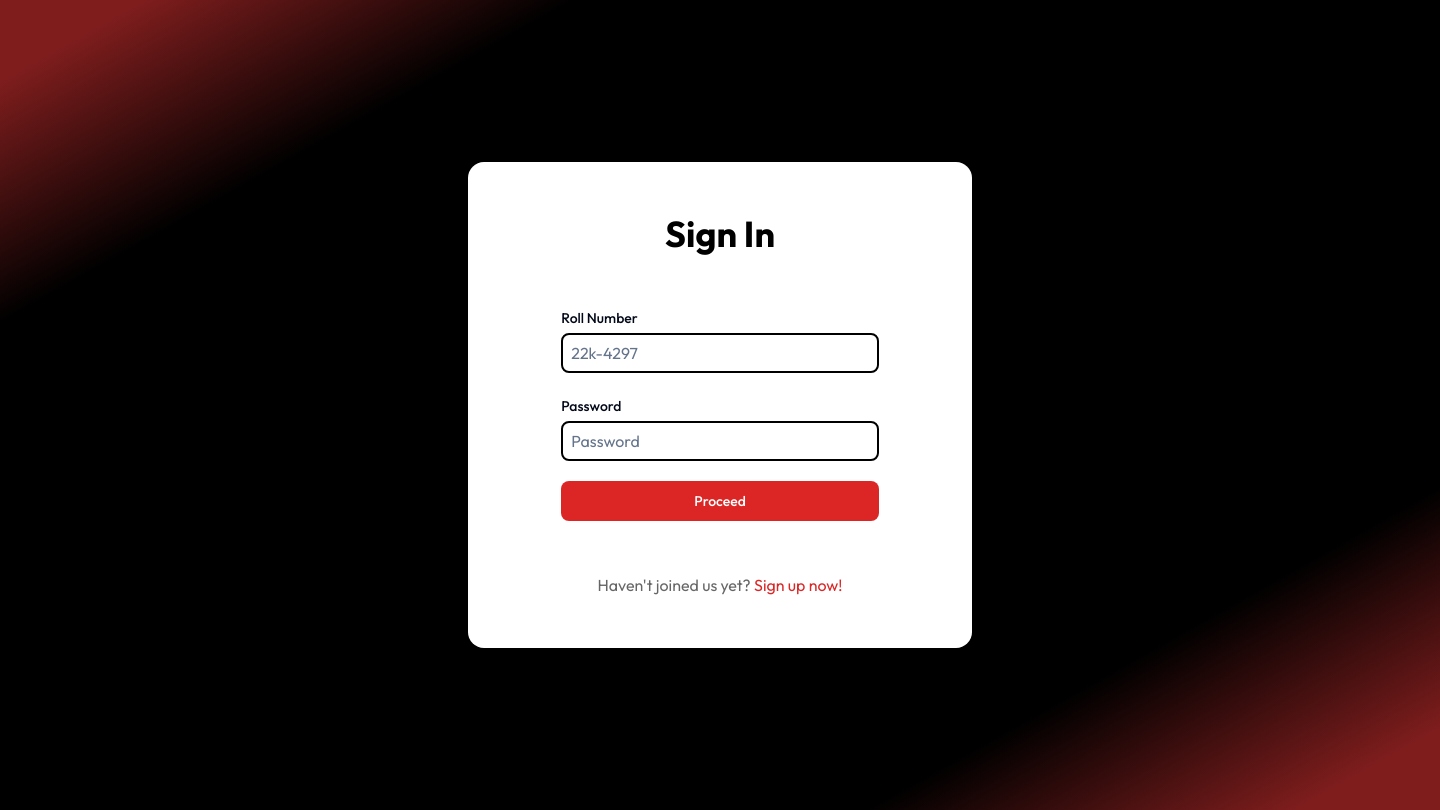
Test: Login Form - Validation Tests › should reject roll number in wrong format (missing k)
In the field labelled "Roll Number": (720, 353) x1=561 y1=333 x2=879 y2=373, type "22-4297"
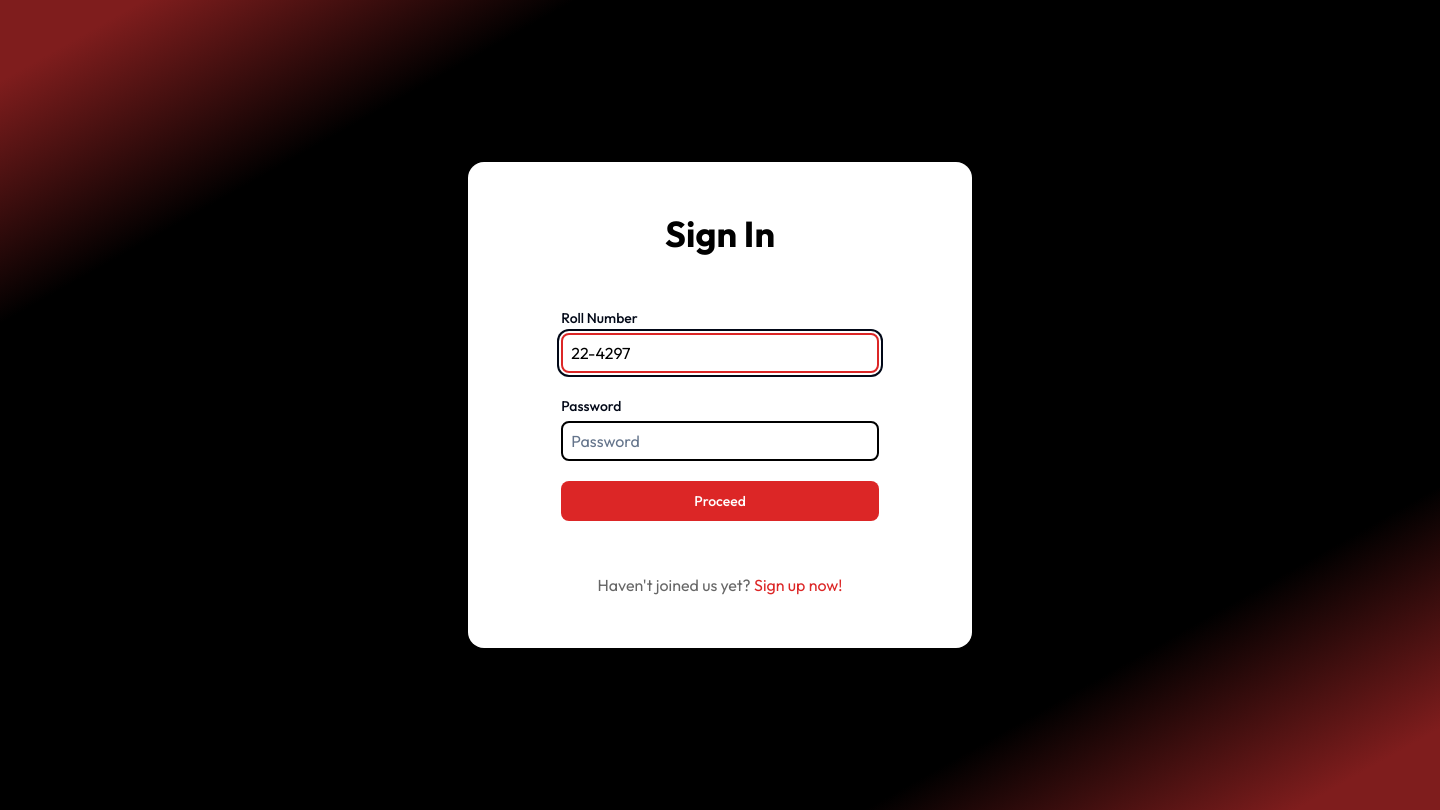
In the password field labelled "Password": (720, 441) x1=561 y1=421 x2=879 y2=461, type "password123"
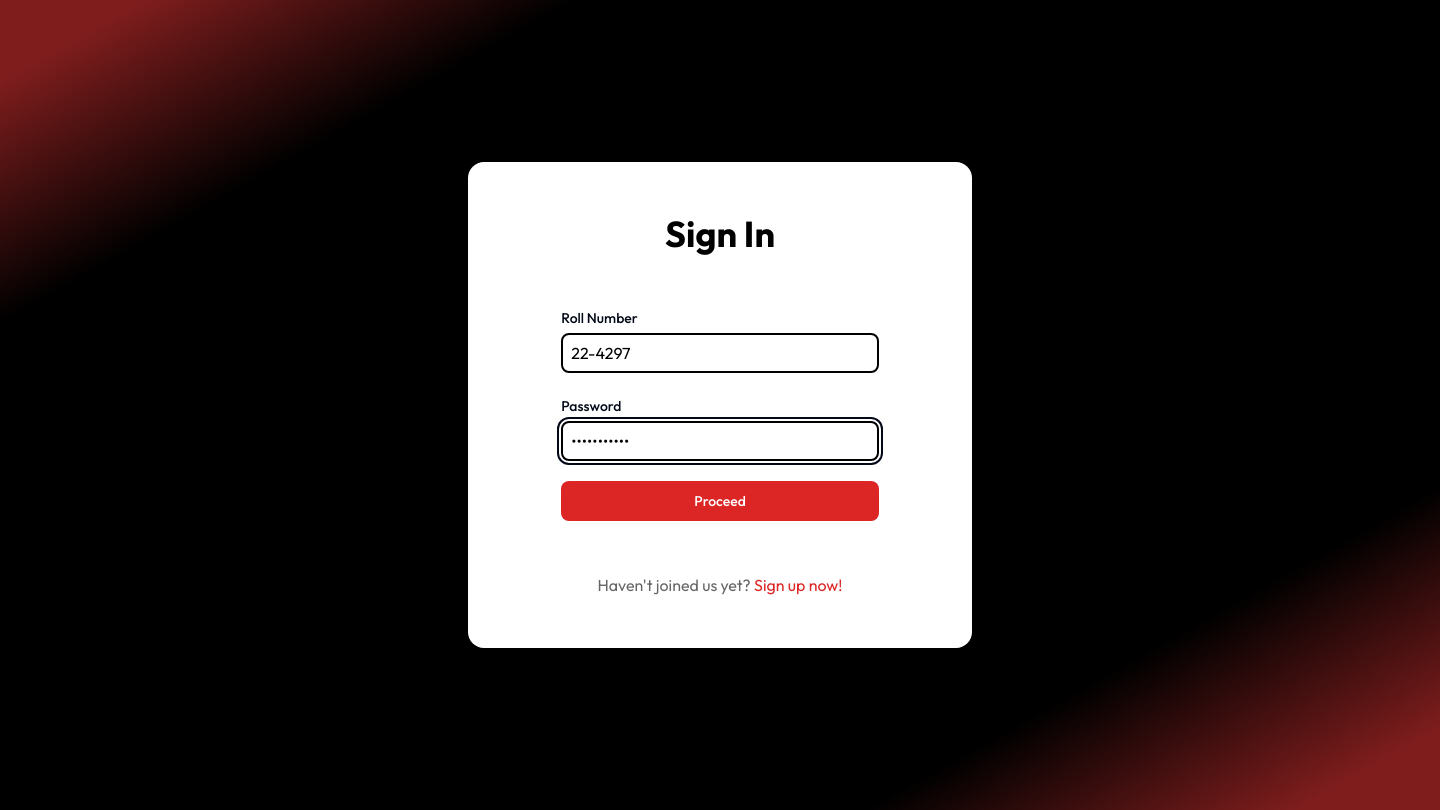
Click the button "Proceed": (720, 501) x1=561 y1=481 x2=879 y2=521
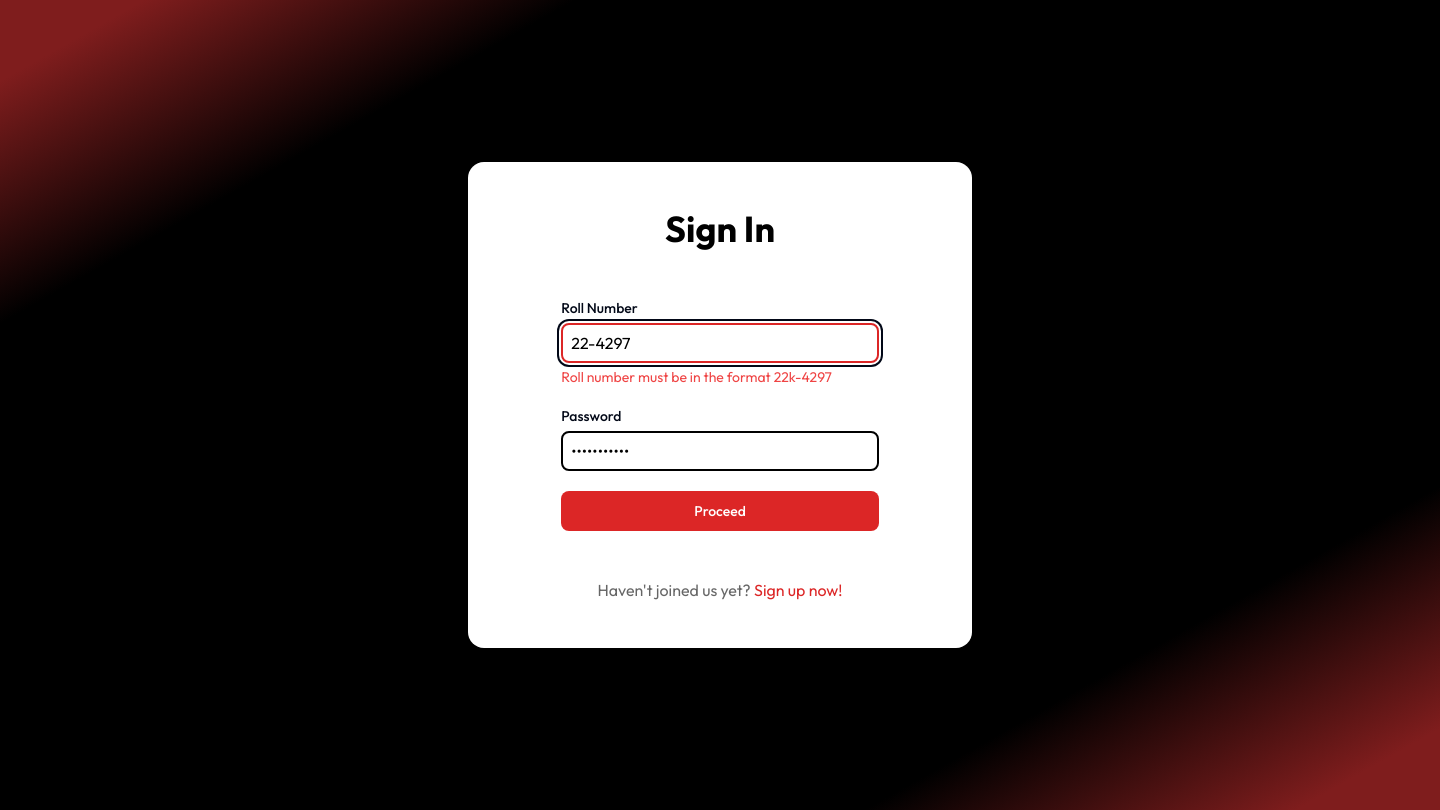
Check: the text "Roll number must be in the format 22k-4297" is shown, box x1=561 y1=367 x2=879 y2=387
